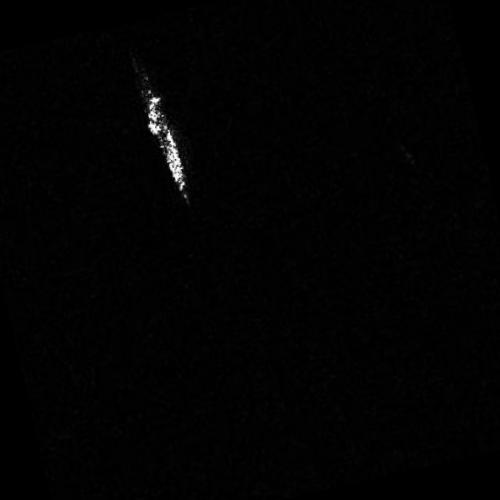ship: (145, 92, 190, 203)
